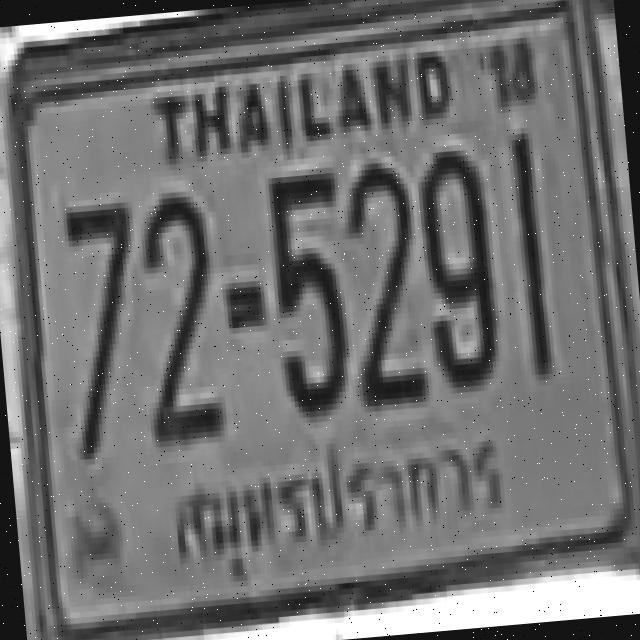1: (507, 130, 549, 372)
2: (130, 184, 221, 442), (341, 158, 424, 404)
5: (264, 167, 350, 413)
7: (56, 196, 147, 454)
9: (414, 142, 497, 384)
SamutPrakan: (152, 422, 526, 582)
